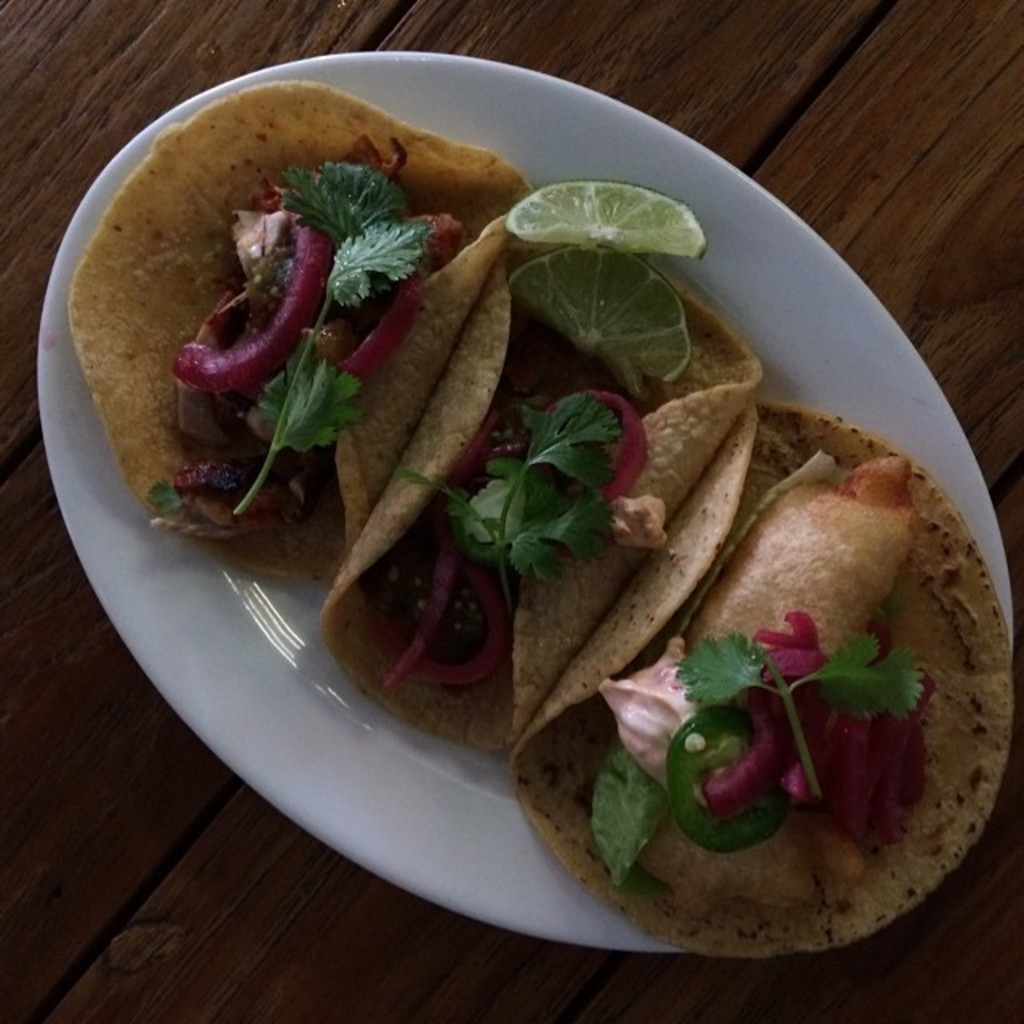taco: (507, 394, 1022, 970), (296, 222, 770, 760), (66, 77, 533, 581)
